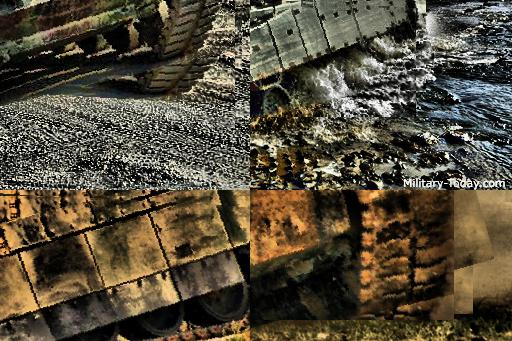tanks: (1, 197, 251, 341), (251, 191, 454, 320), (251, 3, 417, 117), (1, 1, 220, 65)
